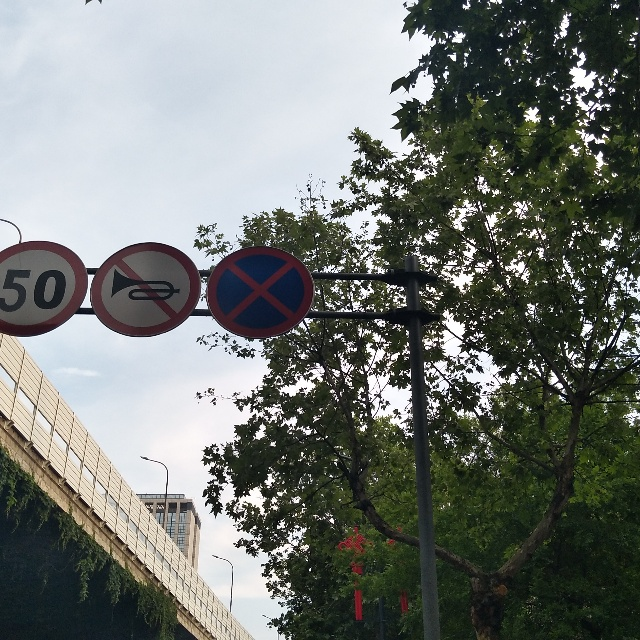nohonk: (101, 251, 191, 333)
stop: (216, 251, 306, 329)
